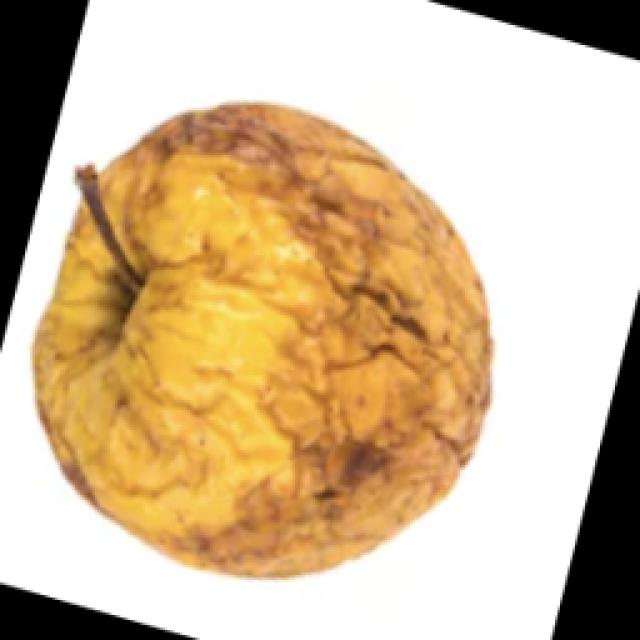Rotten_Apple: (31, 6, 633, 640)
